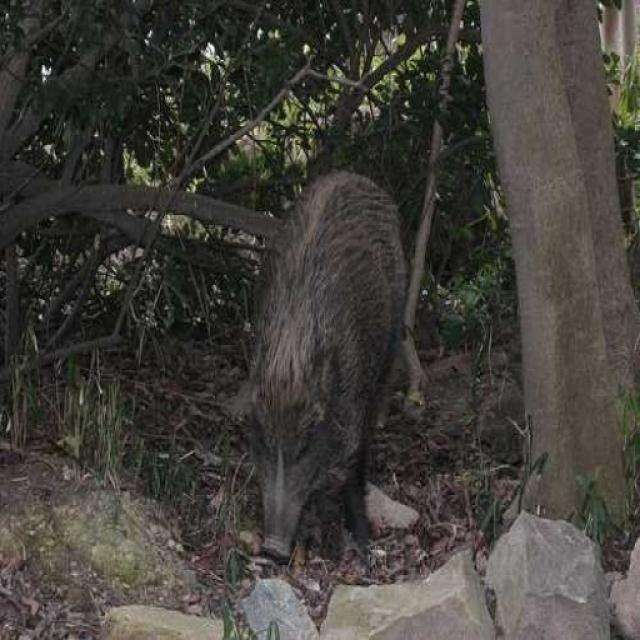pig: (224, 154, 420, 623)
